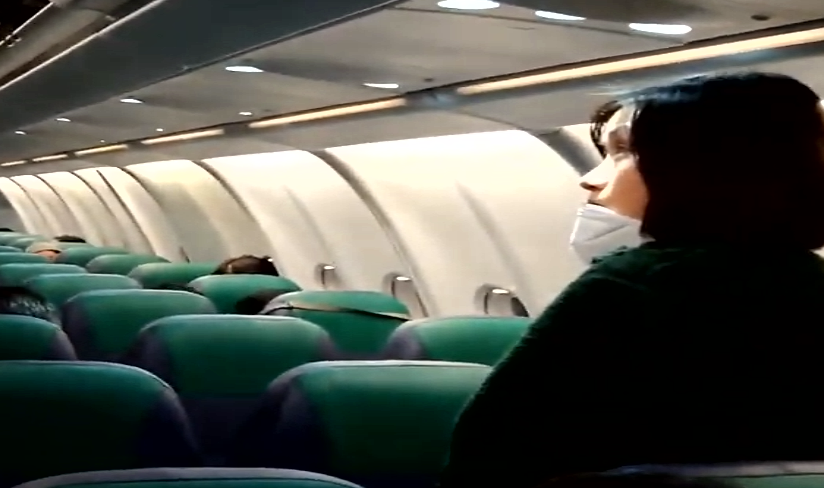mask_weared_incorrect: (564, 68, 743, 265)
